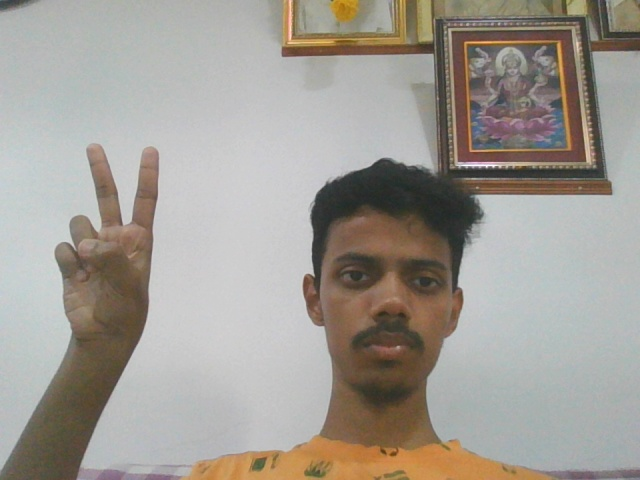Peace: (53, 143, 160, 351)
